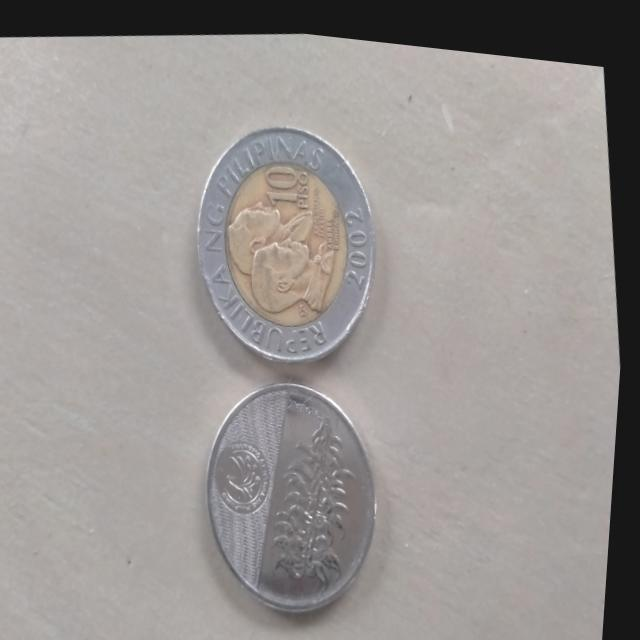10_Old_Front: (181, 100, 397, 372)
5_New_Back: (258, 392, 381, 599)
